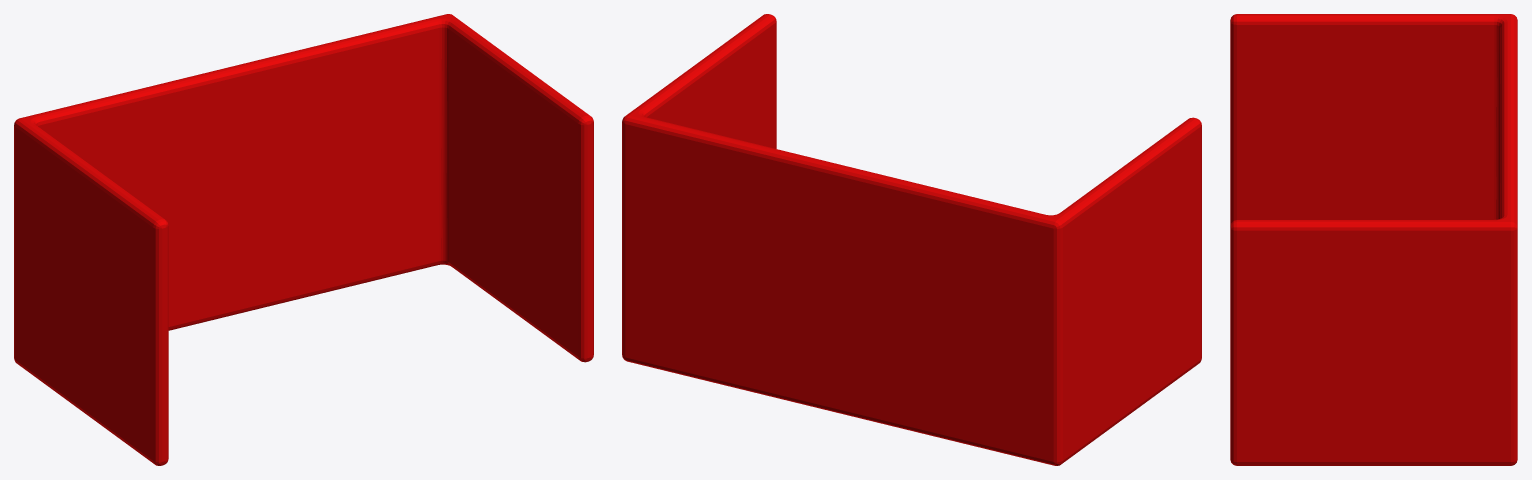
The model's file is push_red.dae.
The picture shows the model from 3 angles, left to right: view 1: azimuth 30°, elevation 25°; view 2: azimuth 150°, elevation 25°; view 3: azimuth 270°, elevation 25°; orthographic projection.
Visible parts, largest first — view 1: push; view 2: push; view 3: push.
Part boxes in pixels (x1=…): push: x1=14, y1=14, x2=593, y2=465; push: x1=622, y1=14, x2=1201, y2=465; push: x1=1230, y1=14, x2=1517, y2=465.
Bounding box in the file's own units: 0.15 × 0.0856 × 0.08.
